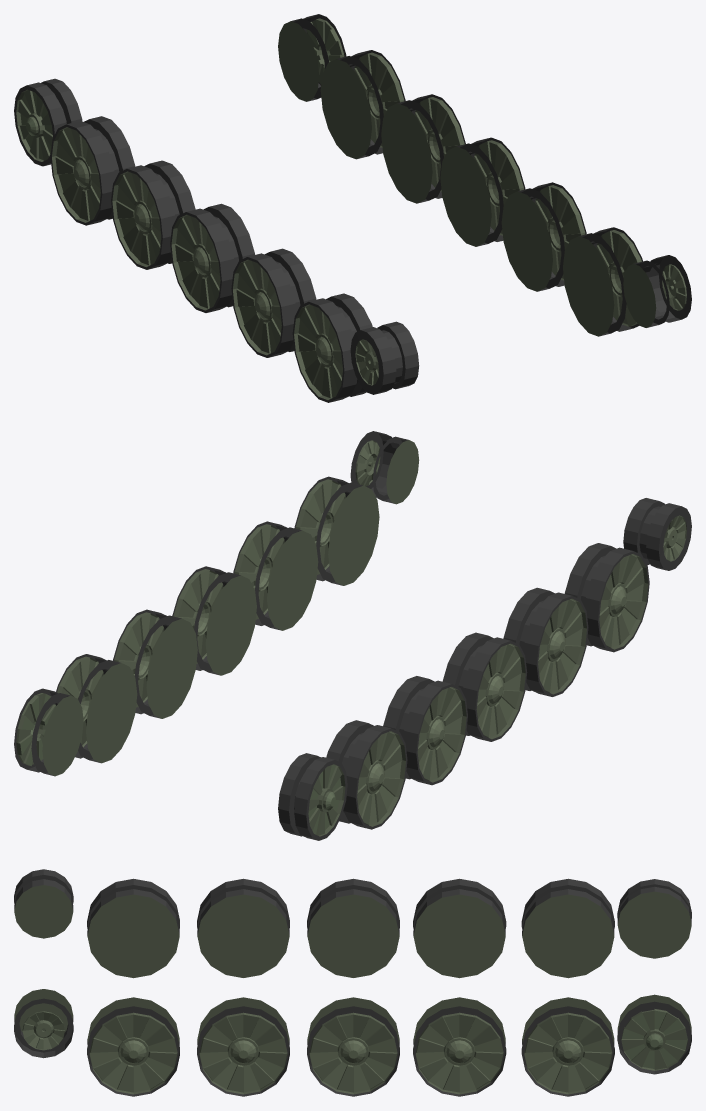
File: T-34_Engrane.fbx
3 renders of one model, top to bottom at view 1: azimuth 30°, elevation 25°; view 2: azimuth 150°, elevation 25°; view 3: azimuth 270°, elevation 25°, orthographic. The views are drawn at different scales.
Visible parts, largest first — view 1: Engranes; view 2: Engranes; view 3: Engranes.
Part boxes in pixels (<box>): Engranes: <box>14,14,691,402</box>; Engranes: <box>14,431,691,840</box>; Engranes: <box>14,869,691,1096</box>.
Size of the model in its own units: 114 by 36.8 by 243.
